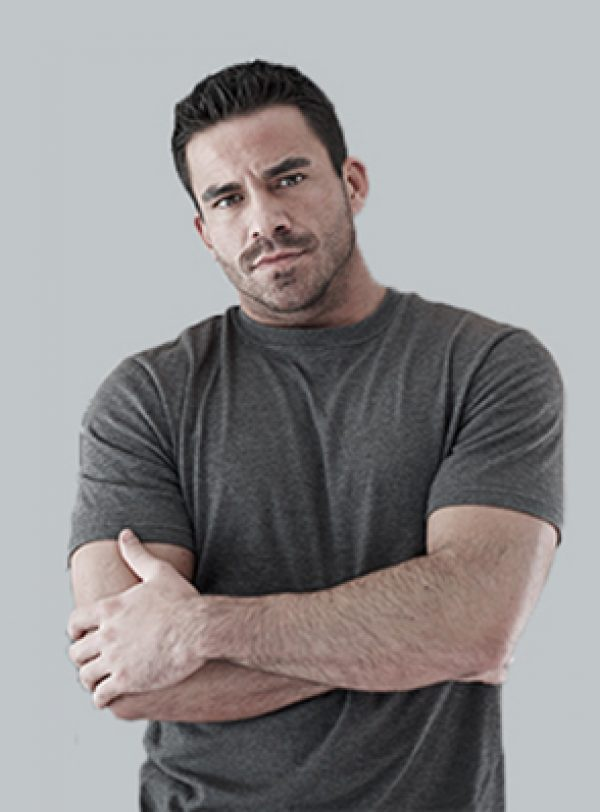bad: (180, 139, 366, 325)
